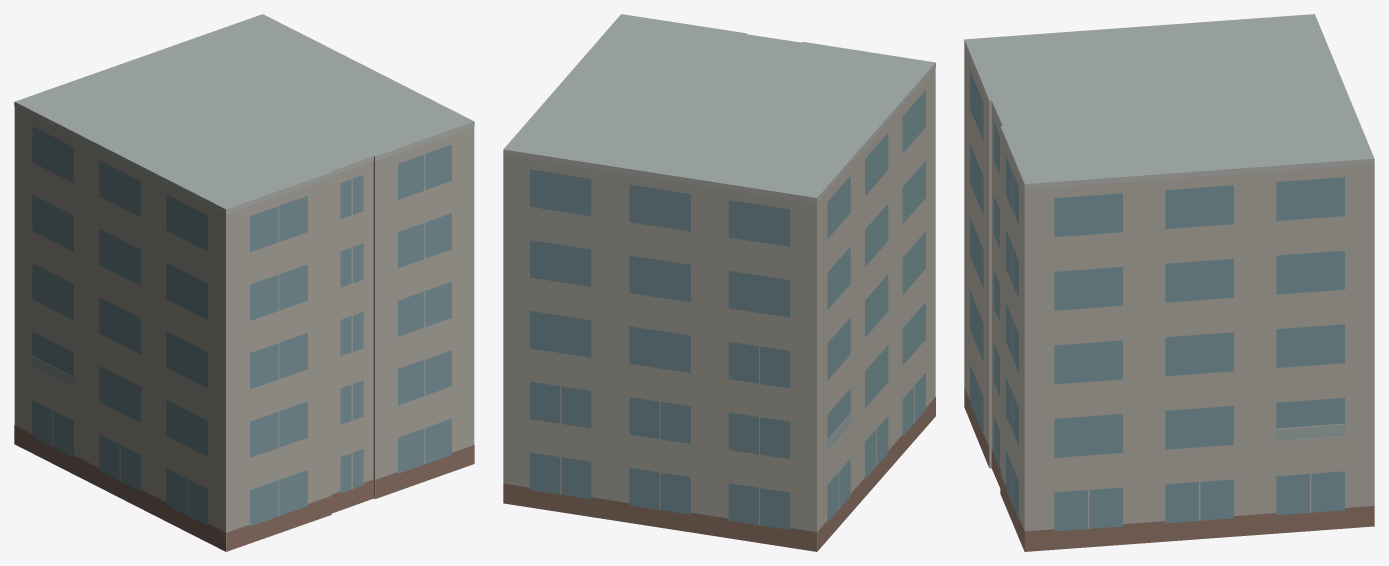
The model's file is survey-upis-32701637.glb.
3 renders of one model, left to right at view 1: azimuth 30°, elevation 25°; view 2: azimuth 150°, elevation 25°; view 3: azimuth 270°, elevation 25°, orthographic. The views are drawn at different scales.
Parts seen in each view (by area): view 1: survey-upis-32701637.tmp; view 2: survey-upis-32701637.tmp; view 3: survey-upis-32701637.tmp.
Boxes of the visible parts, bbox=[...] form: survey-upis-32701637.tmp: bbox=[14, 14, 474, 551]; survey-upis-32701637.tmp: bbox=[503, 14, 935, 551]; survey-upis-32701637.tmp: bbox=[964, 14, 1374, 551].
Bounding box in the file's own units: 16.37 × 16.49 × 16.68.
